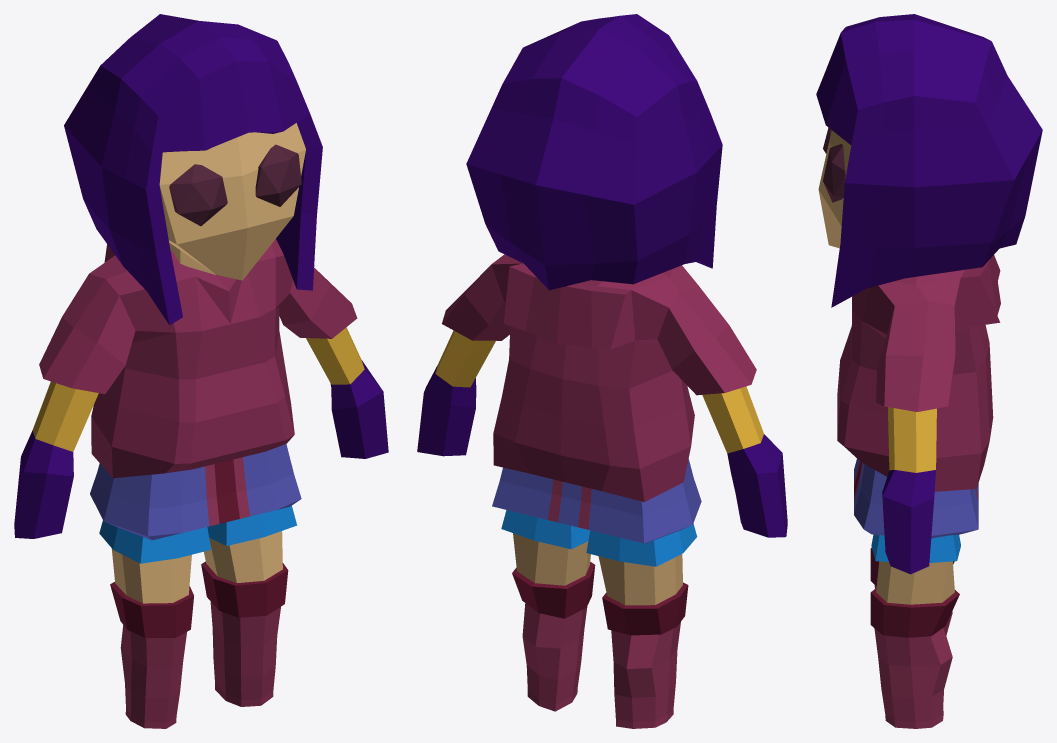
Rendered from charachter.fbx.
The picture shows the model from 3 angles, left to right: view 1: azimuth 30°, elevation 25°; view 2: azimuth 150°, elevation 25°; view 3: azimuth 270°, elevation 25°; orthographic projection.
Visible parts, largest first — view 1: Cube.002, Cube.001, Cube.005, Cube.004, Cube.003, Cube, Icosphere; view 2: Cube.001, Cube.002, Cube.005, Cube.004, Cube.003; view 3: Cube.001, Cube.002, Cube.005, Cube.004, Cube.003, Cube, Icosphere.
Boxes of the visible parts, box(x1,y1,x2,y2) form: Cube.002: box(39, 239, 357, 478); Cube.001: box(64, 14, 322, 325); Cube.005: box(99, 505, 297, 728); Cube.004: box(14, 327, 388, 538); Cube.003: box(90, 444, 301, 540); Cube: box(159, 123, 305, 280); Icosphere: box(169, 144, 301, 226); Cube.001: box(466, 14, 722, 290); Cube.002: box(442, 254, 756, 501); Cube.005: box(501, 510, 697, 728); Cube.004: box(417, 330, 787, 537); Cube.003: box(492, 459, 701, 543); Cube.001: box(816, 14, 1042, 307); Cube.002: box(837, 255, 1000, 491); Cube.005: box(870, 534, 960, 728); Cube.004: box(882, 407, 936, 574); Cube.003: box(854, 458, 978, 538); Cube: box(818, 130, 851, 248); Icosphere: box(823, 127, 845, 202).
Bounding box in the file's own units: 534 × 942 × 285.
